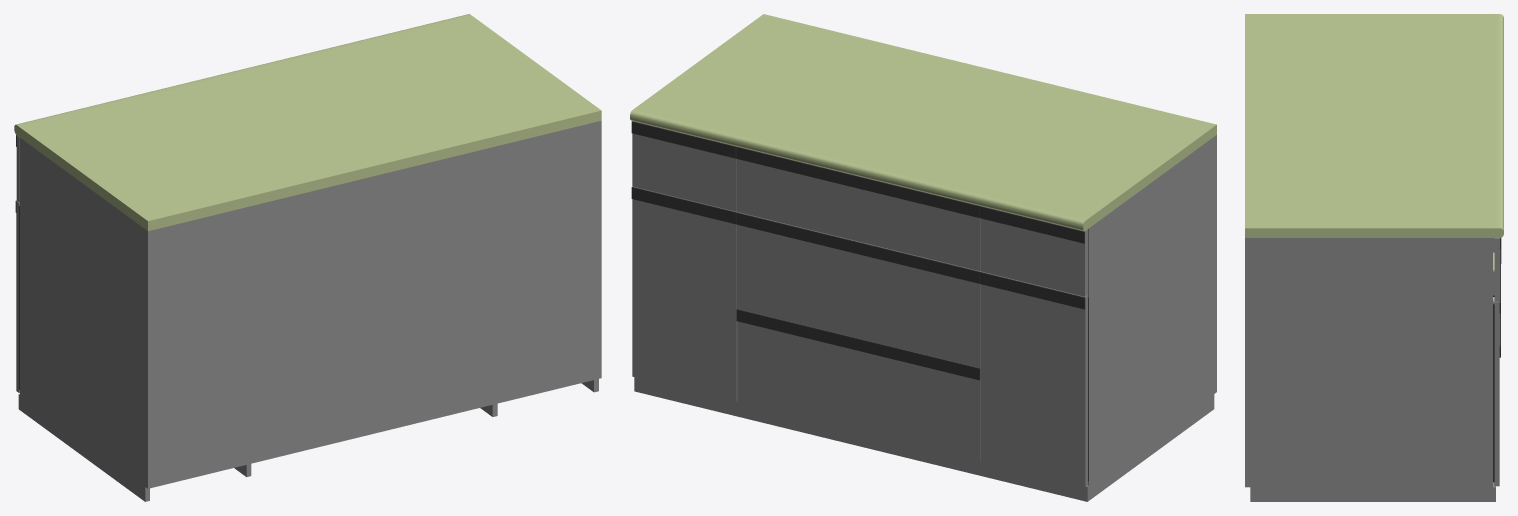
The model's file is Kitchen_curbstone_2.FBX.
3 renders of one model, left to right at view 1: azimuth 30°, elevation 25°; view 2: azimuth 150°, elevation 25°; view 3: azimuth 270°, elevation 25°, orthographic. The views are drawn at different scales.
Parts seen in each view (by area): view 1: Kitchen_curbstone_2, Kitchen_curbstone_2_door_6; view 2: Kitchen_curbstone_2, Kitchen_curbstone_2_door_4, Kitchen_curbstone_2_door_5, Kitchen_curbstone_2_door_6, Kitchen_curbstone_2_door_3, Kitchen_curbstone_2_door_1, Box007, Kitchen_curbstone_2_door_2; view 3: Kitchen_curbstone_2, Kitchen_curbstone_2_door_3, Kitchen_curbstone_2_door_2.
Part boxes in pixels (x1=…): Kitchen_curbstone_2: x1=14, y1=14, x2=601, y2=501; Kitchen_curbstone_2_door_6: x1=15, y1=200, x2=19, y2=392; Kitchen_curbstone_2: x1=630, y1=14, x2=1216, y2=501; Kitchen_curbstone_2_door_4: x1=736, y1=212, x2=980, y2=367; Kitchen_curbstone_2_door_5: x1=736, y1=309, x2=980, y2=461; Kitchen_curbstone_2_door_6: x1=980, y1=271, x2=1088, y2=486; Kitchen_curbstone_2_door_3: x1=631, y1=186, x2=737, y2=401; Kitchen_curbstone_2_door_1: x1=736, y1=146, x2=980, y2=270; Box007: x1=980, y1=206, x2=1087, y2=296; Kitchen_curbstone_2_door_2: x1=631, y1=121, x2=736, y2=211; Kitchen_curbstone_2: x1=1245, y1=14, x2=1503, y2=501; Kitchen_curbstone_2_door_3: x1=1493, y1=253, x2=1500, y2=486; Kitchen_curbstone_2_door_2: x1=1493, y1=238, x2=1501, y2=301.
Bounding box in the file's own units: 74.02 × 44.09 × 37.8.
